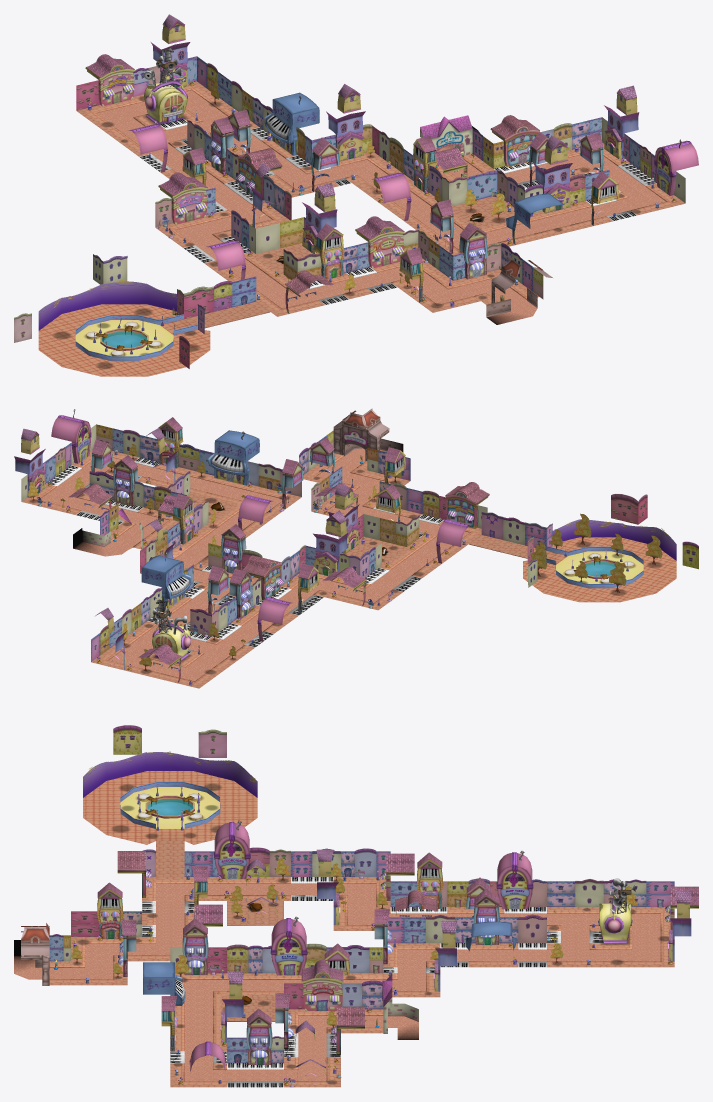
Rendered from baritone_boulevard.glb.
3 views of the same model, one above another, from view 1: azimuth 30°, elevation 25°; view 2: azimuth 150°, elevation 25°; view 3: azimuth 270°, elevation 25° (orthographic). The views are drawn at different scales.
Parts seen in each view (by area): view 1: bldg_back (×11), o270 (×5), MMpd_outsidebackground, square_drop_shadow (×4), street_full_corner_street (×7), MM_D1_horn (×4), MM_E1_horn (×2), MM_A1_awnings (×3), MMpd_background, shadow, MMpd_ground, street_sidewalk_40x40_sidewalk (×2) (+12 smaller); view 2: bldg_back (×12), MMpd_outsidebackground, MM_E1_horn (×2), o270 (×3), MM_D1_horn (×4), MM_A1_awnings (×3), MMpd_background, street_full_corner_street (×3), shadow, MMpd_ground, square_drop_shadow (×2), MMpd_fence (+12 smaller); view 3: bldg_back (×9), street_full_corner_street (×11), MMpd_outsidebackground, o270 (×4), MM_D1_front (×3), MMpd_background, square_drop_shadow (×3), MM_A1_awnings (×3), MMpd_ground, MM_E1_horn (×2), street_sidewalk_40x40_sidewalk (×2), shadow (+15 smaller).
Boxes of the visible parts, left/top/right/bottom form: bldg_back (×11): left=182, top=109, right=619, bottom=302; o270 (×5): left=151, top=14, right=639, bottom=254; MMpd_outsidebackground: left=38, top=304, right=210, bottom=376; square_drop_shadow (×4): left=85, top=54, right=467, bottom=268; street_full_corner_street (×7): left=96, top=105, right=665, bottom=308; MM_D1_horn (×4): left=128, top=124, right=698, bottom=279; MM_E1_horn (×2): left=264, top=92, right=563, bottom=244; MM_A1_awnings (×3): left=235, top=115, right=539, bottom=313; MMpd_background: left=38, top=280, right=176, bottom=330; shadow: left=143, top=55, right=187, bottom=125; MMpd_ground: left=75, top=319, right=191, bottom=356; street_sidewalk_40x40_sidewalk (×2): left=256, top=196, right=514, bottom=273; bldg_back (×12): left=90, top=417, right=405, bottom=618; MMpd_outsidebackground: left=523, top=537, right=676, bottom=602; MM_E1_horn (×2): left=141, top=430, right=259, bottom=609; o270 (×3): left=14, top=428, right=359, bottom=577; MM_D1_horn (×4): left=51, top=415, right=471, bottom=641; MM_A1_awnings (×3): left=68, top=482, right=489, bottom=600; MMpd_background: left=552, top=519, right=676, bottom=560; street_full_corner_street (×3): left=41, top=487, right=391, bottom=681; shadow: left=151, top=607, right=190, bottom=663; MMpd_ground: left=546, top=550, right=643, bottom=583; square_drop_shadow (×2): left=138, top=567, right=366, bottom=682; MMpd_fence: left=546, top=546, right=643, bottom=588; bldg_back (×9): left=97, top=852, right=499, bottom=1064; street_full_corner_street (×11): left=71, top=883, right=660, bottom=1081; MMpd_outsidebackground: left=83, top=771, right=257, bottom=844; o270 (×4): left=221, top=849, right=691, bottom=1042; MM_D1_front (×3): left=214, top=835, right=533, bottom=975; MMpd_background: left=83, top=751, right=257, bottom=797; square_drop_shadow (×3): left=194, top=853, right=414, bottom=1010; MM_A1_awnings (×3): left=117, top=851, right=436, bottom=1054; MMpd_ground: left=120, top=787, right=219, bottom=840; MM_E1_horn (×2): left=143, top=921, right=516, bottom=1016; street_sidewalk_40x40_sidewalk (×2): left=227, top=901, right=283, bottom=1021; shadow: left=598, top=878, right=635, bottom=944.
Size of the model in its own units: 564 by 57.82 by 482.
Materials: 227 (217 with a texture image).
